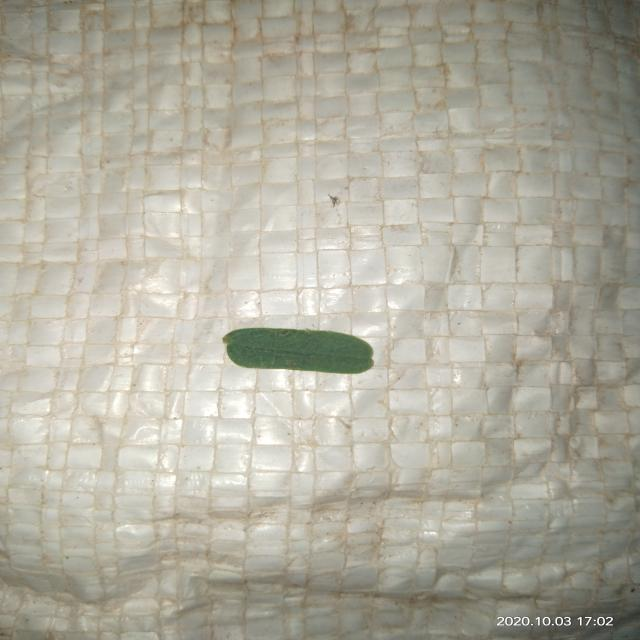tamarind: (223, 329, 373, 372)
